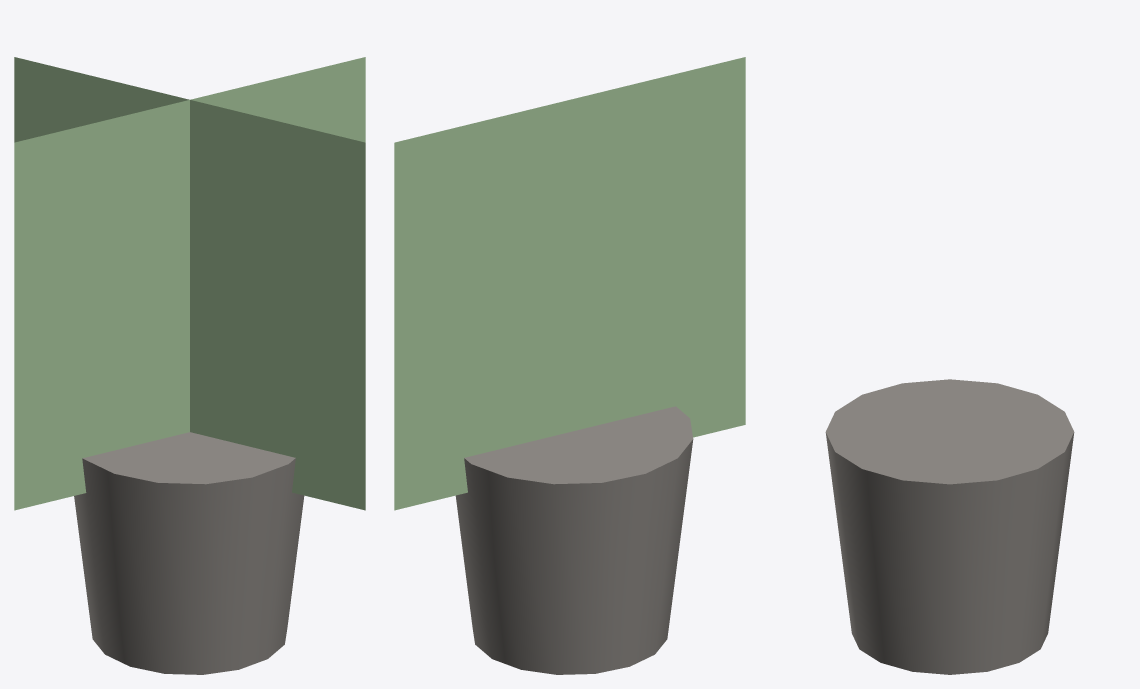
The model's file is plant_steel.glb.
The picture shows the model from 3 angles, left to right: view 1: azimuth 30°, elevation 25°; view 2: azimuth 150°, elevation 25°; view 3: azimuth 270°, elevation 25°; orthographic projection.
Parts seen in each view (by area): view 1: plant_steel; view 2: plant_steel; view 3: plant_steel.
Boxes of the visible parts, box(x1,y1,x2,y2) form: plant_steel: box(14, 57, 365, 674); plant_steel: box(394, 57, 745, 674); plant_steel: box(825, 379, 1074, 674).
Size of the model in its own units: 0.62 by 0.9 by 0.5369.
